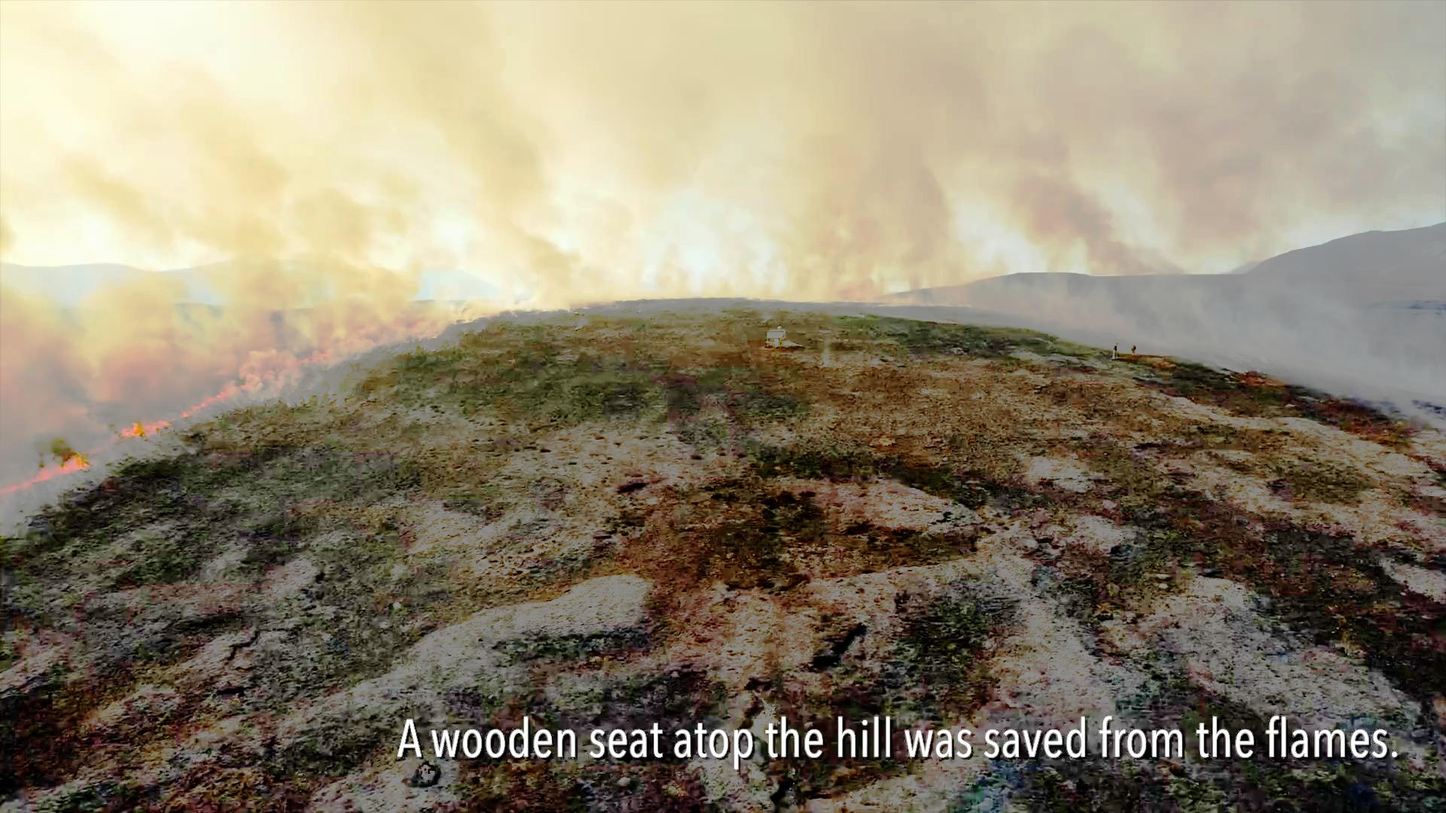smoke: (1169, 248, 1446, 403), (772, 198, 964, 316), (265, 233, 405, 361), (459, 192, 596, 308)
